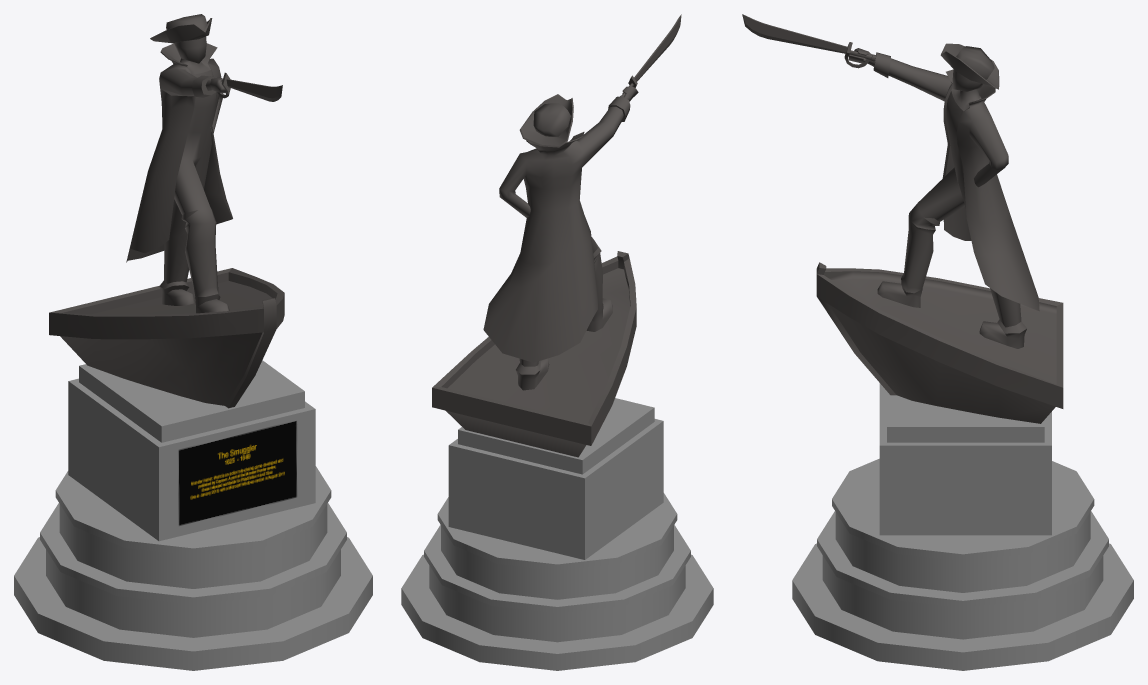
File: Statue_003_Mesh_001.fbx
The picture shows the model from 3 angles, left to right: view 1: azimuth 30°, elevation 25°; view 2: azimuth 150°, elevation 25°; view 3: azimuth 270°, elevation 25°; orthographic projection. The views are drawn at different scales.
Parts seen in each view (by area): view 1: Statue_003_Mesh_001; view 2: Statue_003_Mesh_001; view 3: Statue_003_Mesh_001.
Boxes of the visible parts, <box> form: Statue_003_Mesh_001: <box>14,14,372,670</box>; Statue_003_Mesh_001: <box>401,14,713,670</box>; Statue_003_Mesh_001: <box>742,14,1133,670</box>.
Size of the model in its own units: 1710 by 3162 by 1961.
